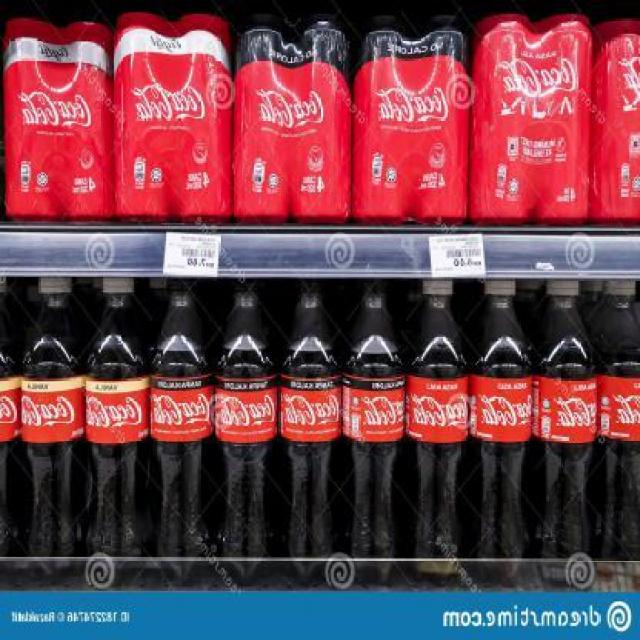Drinks: (469, 13, 594, 229), (114, 10, 232, 222), (352, 14, 471, 218), (233, 15, 352, 218), (2, 19, 113, 222), (20, 277, 86, 558), (406, 280, 471, 562), (86, 276, 151, 558), (149, 278, 214, 560), (213, 280, 278, 562), (341, 280, 405, 562), (277, 280, 341, 562), (532, 281, 596, 562), (470, 280, 533, 562), (597, 280, 638, 562)
